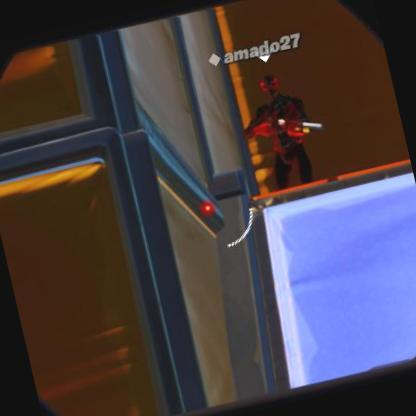person: (233, 70, 324, 195)
